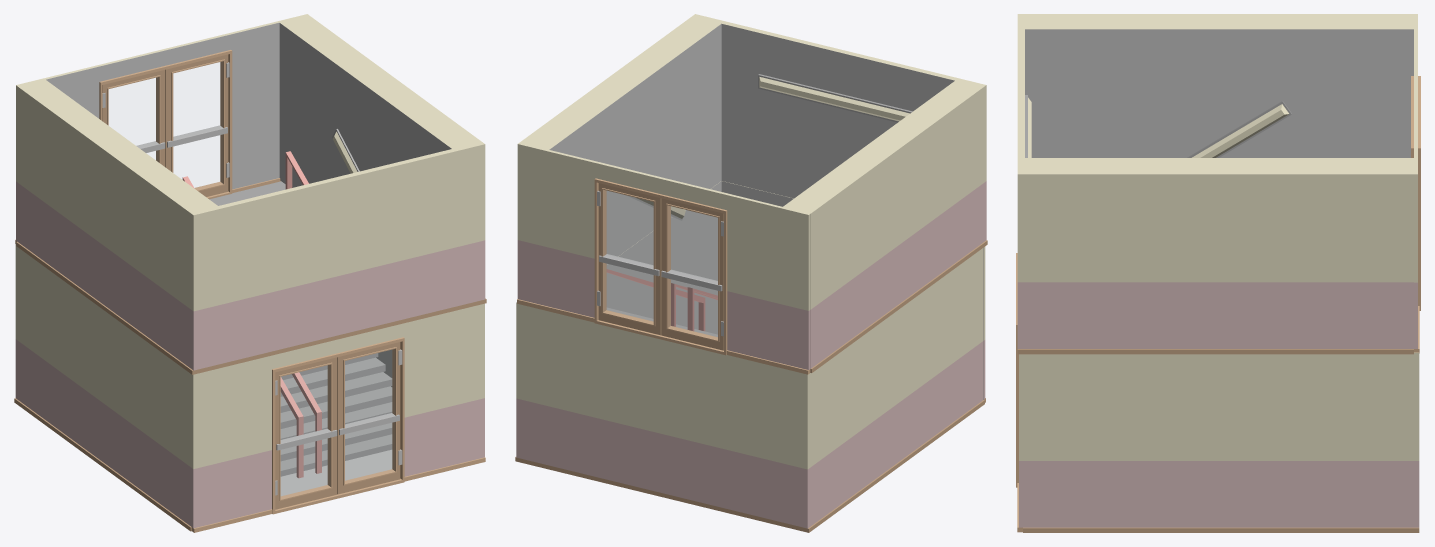
File: stairs_1.fbx
3 renders of one model, left to right at view 1: azimuth 30°, elevation 25°; view 2: azimuth 150°, elevation 25°; view 3: azimuth 270°, elevation 25°, orthographic. The views are drawn at different scales.
Parts seen in each view (by area): view 1: Cloner, Cube_37_2, Cube_35_2, Cube_35, Cube_37; view 2: Cloner, Cube_35, Cube_37; view 3: Cloner.
Boxes of the visible parts, x1=… form: Cloner: x1=14, y1=14, x2=486, y2=532; Cube_37_2: x1=337, y1=342, x2=402, y2=494; Cube_35_2: x1=275, y1=357, x2=337, y2=509; Cube_35: x1=165, y1=54, x2=229, y2=196; Cube_37: x1=102, y1=70, x2=165, y2=166; Cloner: x1=515, y1=14, x2=987, y2=532; Cube_35: x1=597, y1=183, x2=661, y2=335; Cube_37: x1=661, y1=198, x2=723, y2=350; Cloner: x1=1016, y1=14, x2=1420, y2=532.
Bounding box in the file's own units: 173 × 178 × 183.
